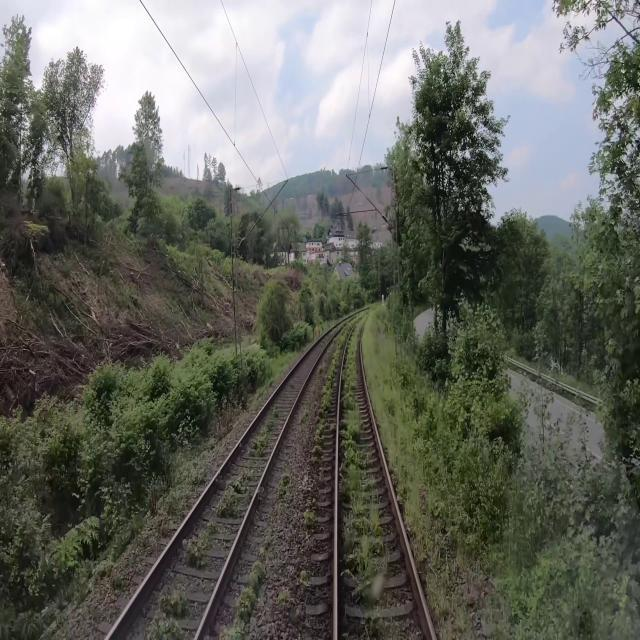Plant: (94, 365, 286, 617), (361, 312, 483, 639), (339, 305, 404, 637), (180, 398, 287, 572), (229, 462, 294, 636), (310, 308, 370, 466), (142, 581, 200, 639), (276, 565, 318, 633), (300, 497, 327, 556), (299, 400, 311, 431)
